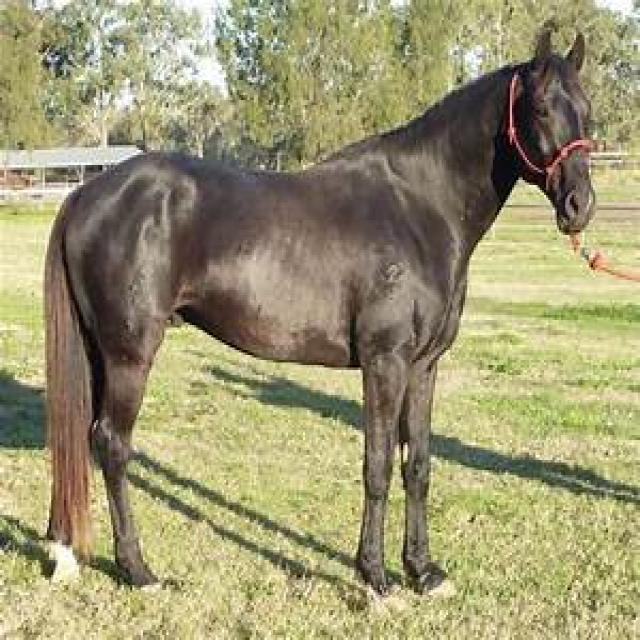horse: (41, 32, 599, 600)
